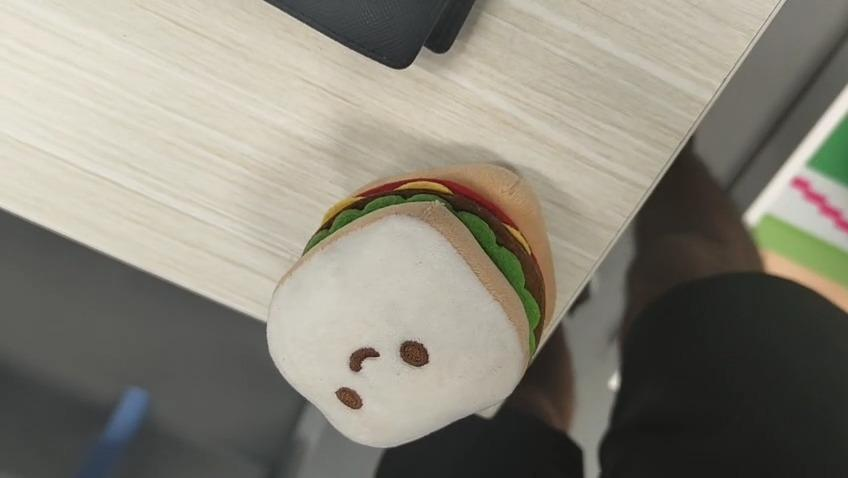objects: (263, 161, 553, 453)
